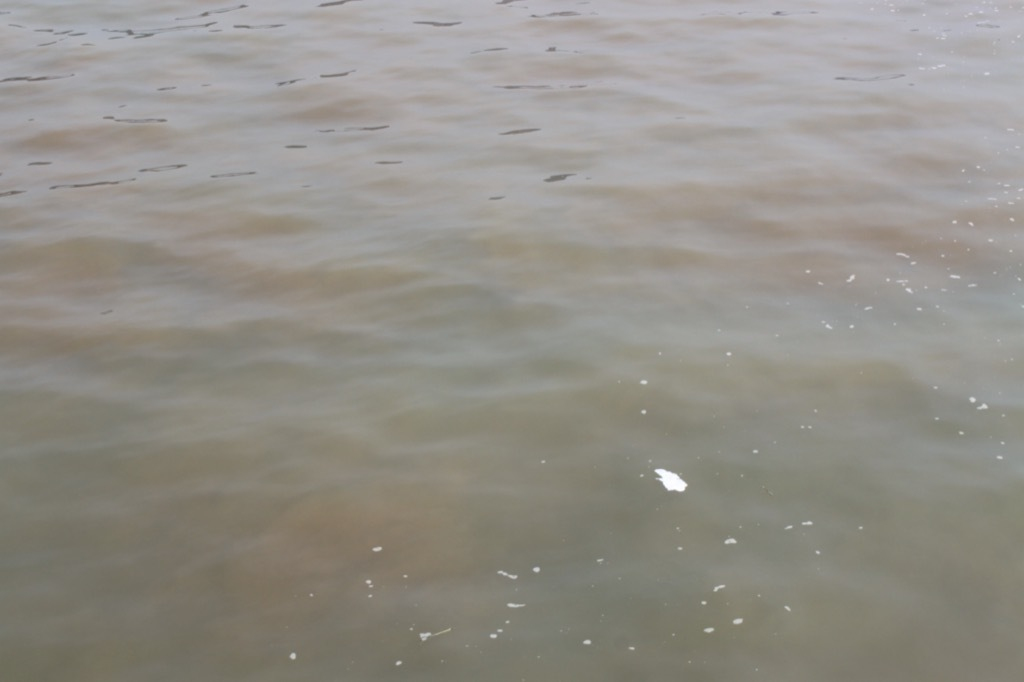plastic: (649, 463, 692, 494)
